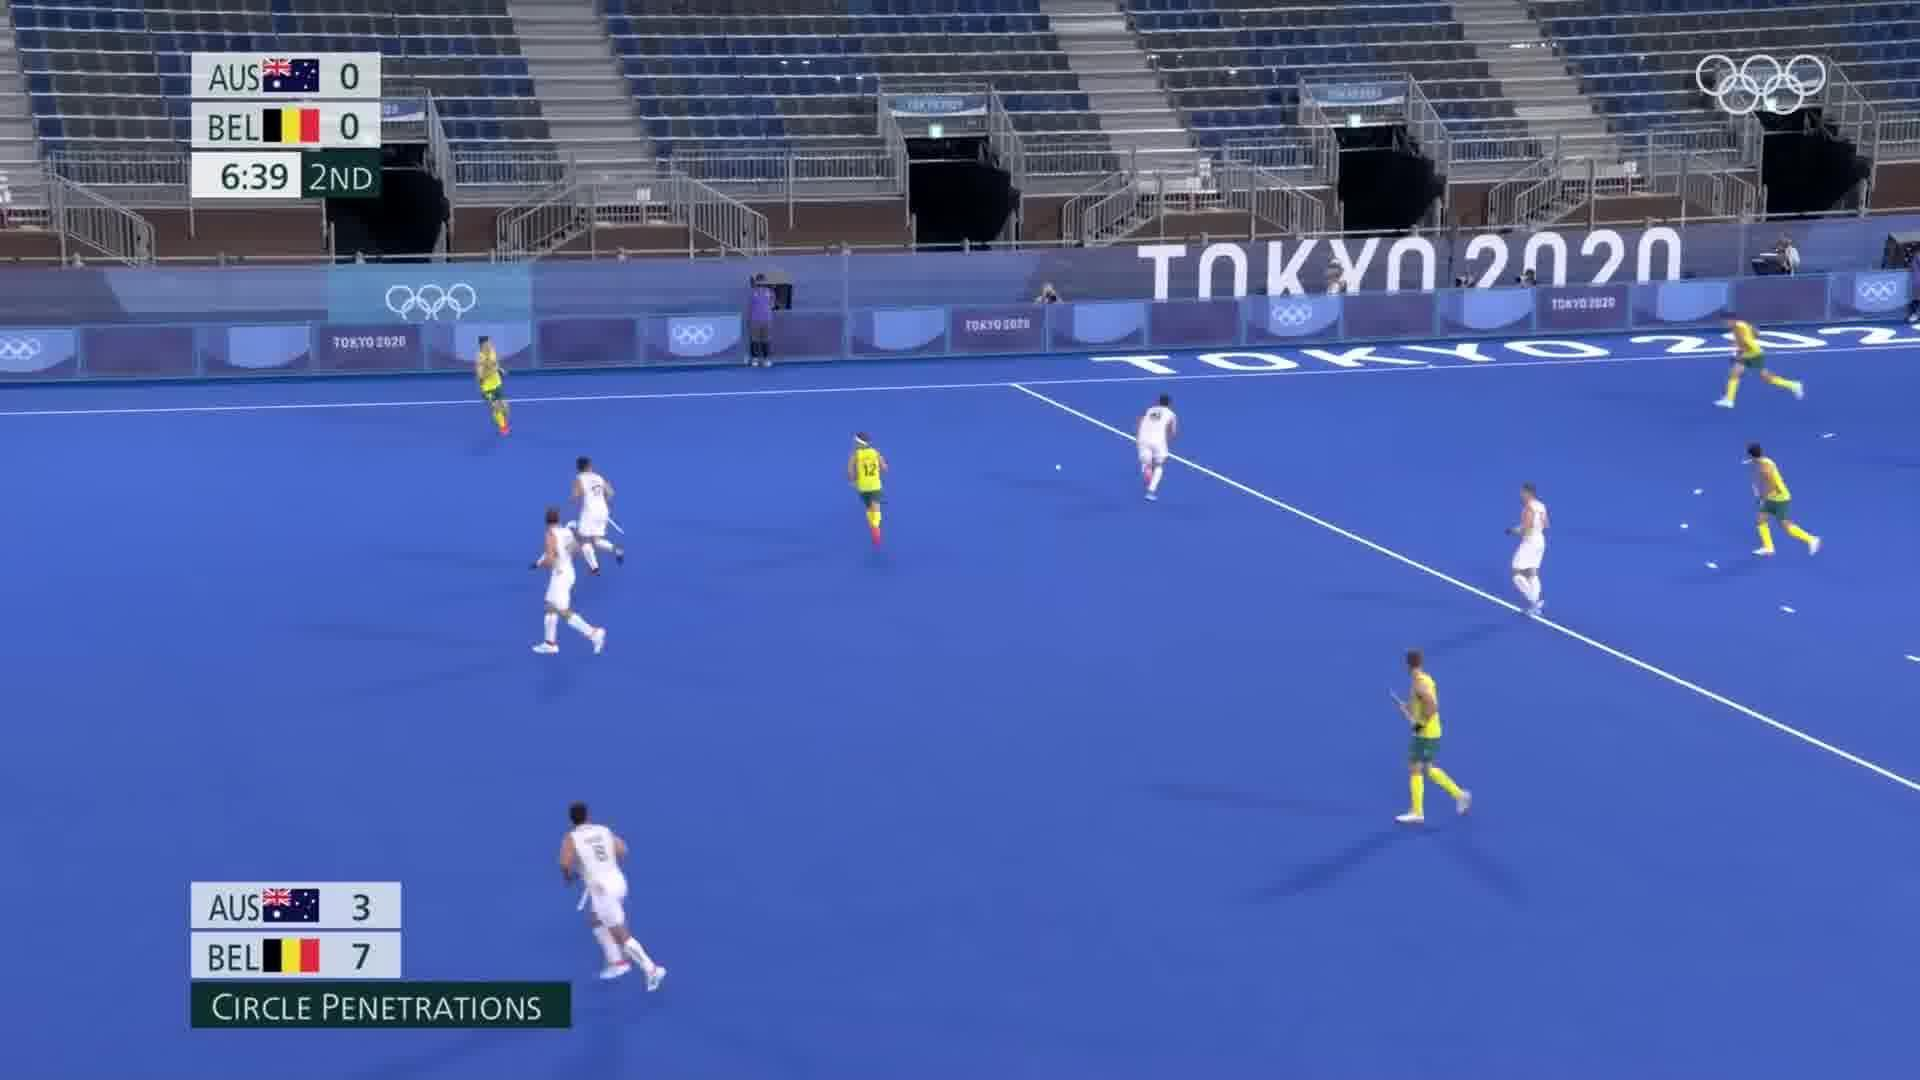ball: (1046, 456, 1068, 475)
